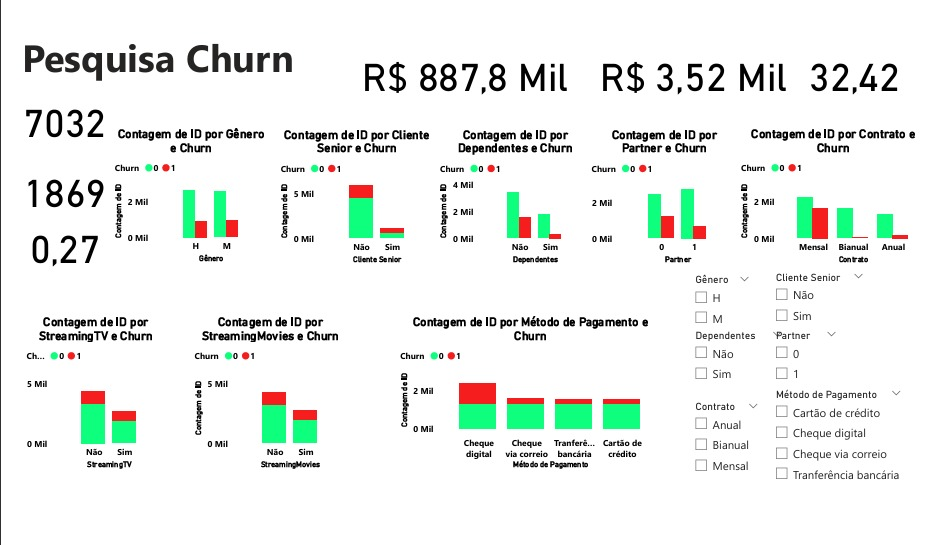

What the dashboard file says about the page in this screenshot:
{"tool":"powerbi","page":{"name":"KPI","canvas":[1280,720],"ordinal":0},"visuals":[{"type":"card","fields":{"Values":["Count(DataSet_tratado_PowerBI.customerID)"]},"box":[0,89.6,176.6,114.4],"z":0},{"type":"card","fields":{"Values":["DataSet_tratado_PowerBI.Total Clientes Churn"]},"box":[0,182.9,172.9,104.5],"z":1000},{"type":"card","fields":{"Values":["Sum(DataSet_tratado_PowerBI.TotalChargesCorrigido)"]},"box":[421.7,14.9,413,148],"z":2000},{"type":"card","fields":{"Values":["Avg(DataSet_tratado_PowerBI.MonthlyCharges)"]},"box":[801.1,19.9,297.3,138.1],"z":3000},{"type":"card","fields":{"Values":["Avg(DataSet_tratado_PowerBI.tenure)"]},"box":[1071,13.7,209,149.3],"z":4000},{"type":"card","fields":{"Values":["DataSet_tratado_PowerBI.% Churn"]},"box":[0,269.9,161.7,108.2],"z":5000},{"type":"clusteredColumnChart","fields":{"Category":["DataSet_tratado_PowerBI.Contract"],"Series":["DataSet_tratado_PowerBI.Churn"],"Y":["CountNonNull(DataSet_tratado_PowerBI.ID)"]},"box":[1011.3,155.5,268.7,196.5],"z":6000},{"type":"columnChart","fields":{"Category":["DataSet_tratado_PowerBI.PaymentMethod"],"Series":["DataSet_tratado_PowerBI.Churn"],"Y":["CountNonNull(DataSet_tratado_PowerBI.ID Cliente)"]},"box":[561,418,375.7,221.4],"z":7000},{"type":"textbox","box":[0,14.2,421.8,85.4],"z":8000},{"type":"columnChart","fields":{"Category":["DataSet_tratado_PowerBI.Cliente Senior"],"Y":["CountNonNull(DataSet_tratado_PowerBI.ID Cliente)"],"Series":["DataSet_tratado_PowerBI.Churn"]},"box":[386.9,156.7,222.7,195.3],"z":9000},{"type":"slicer","fields":{"Values":["DataSet_tratado_PowerBI.Contrato"]},"box":[985.2,517.5,113.2,121.9],"z":12000},{"type":"slicer","fields":{"Values":["DataSet_tratado_PowerBI.Método de Pagamento"]},"box":[1079.8,517.5,200.3,154.3],"z":13000},{"type":"slicer","fields":{"Values":["DataSet_tratado_PowerBI.Cliente Senior"]},"box":[1122.1,354.5,148,88.3],"z":14000},{"type":"clusteredColumnChart","fields":{"Series":["DataSet_tratado_PowerBI.Churn"],"Y":["CountNonNull(DataSet_tratado_PowerBI.ID)"],"Category":["DataSet_tratado_PowerBI.Gênero"]},"box":[161.7,155.5,225.2,195.3],"z":16001},{"type":"clusteredColumnChart","fields":{"Category":["DataSet_tratado_PowerBI.Dependentes"],"Y":["CountNonNull(DataSet_tratado_PowerBI.ID)"],"Series":["DataSet_tratado_PowerBI.Churn"]},"box":[609.5,155.5,221.4,195.3],"z":16002},{"type":"slicer","fields":{"Values":["DataSet_tratado_PowerBI.Dependentes"]},"box":[997.7,429.2,146.8,88.3],"z":16003},{"type":"slicer","fields":{"Values":["DataSet_tratado_PowerBI.Gênero"]},"box":[1001.4,353.3,100.8,89.6],"z":16004},{"type":"clusteredColumnChart","fields":{"Category":["DataSet_tratado_PowerBI.Partner"],"Y":["CountNonNull(DataSet_tratado_PowerBI.ID)"],"Series":["DataSet_tratado_PowerBI.Churn"]},"box":[801.1,155.5,214,195.3],"z":16005},{"type":"slicer","fields":{"Values":["DataSet_tratado_PowerBI.Partner"]},"box":[1125.8,429.2,109.5,99.5],"z":16006},{"type":"columnChart","fields":{"Series":["DataSet_tratado_PowerBI.Churn"],"Y":["CountNonNull(DataSet_tratado_PowerBI.ID)"],"Category":["DataSet_tratado_PowerBI.StreamingMovies"]},"box":[291.1,418,222.7,221.4],"z":16007},{"type":"columnChart","fields":{"Category":["DataSet_tratado_PowerBI.StreamingTV"],"Y":["CountNonNull(DataSet_tratado_PowerBI.ID)"],"Series":["DataSet_tratado_PowerBI.Churn"]},"box":[19.9,418,204,221.4],"z":16008}]}

Visuals, with their boxes in screenshot pixels (x1, y1, x2, y2), scaled from the page's 1280x720 canvas onto the 946x545 screenshot:
card - Count(DataSet_tratado_PowerBI.customerID): {"x1": 0, "y1": 68, "x2": 131, "y2": 154}
card - DataSet_tratado_PowerBI.Total Clientes Churn: {"x1": 0, "y1": 138, "x2": 128, "y2": 218}
card - Sum(DataSet_tratado_PowerBI.TotalChargesCorrigido): {"x1": 312, "y1": 11, "x2": 617, "y2": 123}
card - Avg(DataSet_tratado_PowerBI.MonthlyCharges): {"x1": 592, "y1": 15, "x2": 812, "y2": 120}
card - Avg(DataSet_tratado_PowerBI.tenure): {"x1": 792, "y1": 10, "x2": 945, "y2": 123}
card - DataSet_tratado_PowerBI.% Churn: {"x1": 0, "y1": 204, "x2": 120, "y2": 286}
clusteredColumnChart - DataSet_tratado_PowerBI.Contract x DataSet_tratado_PowerBI.Churn: {"x1": 747, "y1": 118, "x2": 945, "y2": 266}
columnChart - DataSet_tratado_PowerBI.PaymentMethod x DataSet_tratado_PowerBI.Churn: {"x1": 415, "y1": 316, "x2": 692, "y2": 484}
textbox: {"x1": 0, "y1": 11, "x2": 312, "y2": 75}
columnChart - DataSet_tratado_PowerBI.Cliente Senior x CountNonNull(DataSet_tratado_PowerBI.ID Cliente): {"x1": 286, "y1": 119, "x2": 451, "y2": 266}
slicer - DataSet_tratado_PowerBI.Contrato: {"x1": 728, "y1": 392, "x2": 812, "y2": 484}
slicer - DataSet_tratado_PowerBI.Método de Pagamento: {"x1": 798, "y1": 392, "x2": 945, "y2": 509}
slicer - DataSet_tratado_PowerBI.Cliente Senior: {"x1": 829, "y1": 268, "x2": 939, "y2": 335}
clusteredColumnChart - DataSet_tratado_PowerBI.Churn x CountNonNull(DataSet_tratado_PowerBI.ID): {"x1": 120, "y1": 118, "x2": 286, "y2": 266}
clusteredColumnChart - DataSet_tratado_PowerBI.Dependentes x CountNonNull(DataSet_tratado_PowerBI.ID): {"x1": 450, "y1": 118, "x2": 614, "y2": 266}
slicer - DataSet_tratado_PowerBI.Dependentes: {"x1": 737, "y1": 325, "x2": 846, "y2": 392}
slicer - DataSet_tratado_PowerBI.Gênero: {"x1": 740, "y1": 267, "x2": 815, "y2": 335}
clusteredColumnChart - DataSet_tratado_PowerBI.Partner x CountNonNull(DataSet_tratado_PowerBI.ID): {"x1": 592, "y1": 118, "x2": 750, "y2": 266}
slicer - DataSet_tratado_PowerBI.Partner: {"x1": 832, "y1": 325, "x2": 913, "y2": 400}
columnChart - DataSet_tratado_PowerBI.Churn x CountNonNull(DataSet_tratado_PowerBI.ID): {"x1": 215, "y1": 316, "x2": 380, "y2": 484}
columnChart - DataSet_tratado_PowerBI.StreamingTV x CountNonNull(DataSet_tratado_PowerBI.ID): {"x1": 15, "y1": 316, "x2": 165, "y2": 484}
